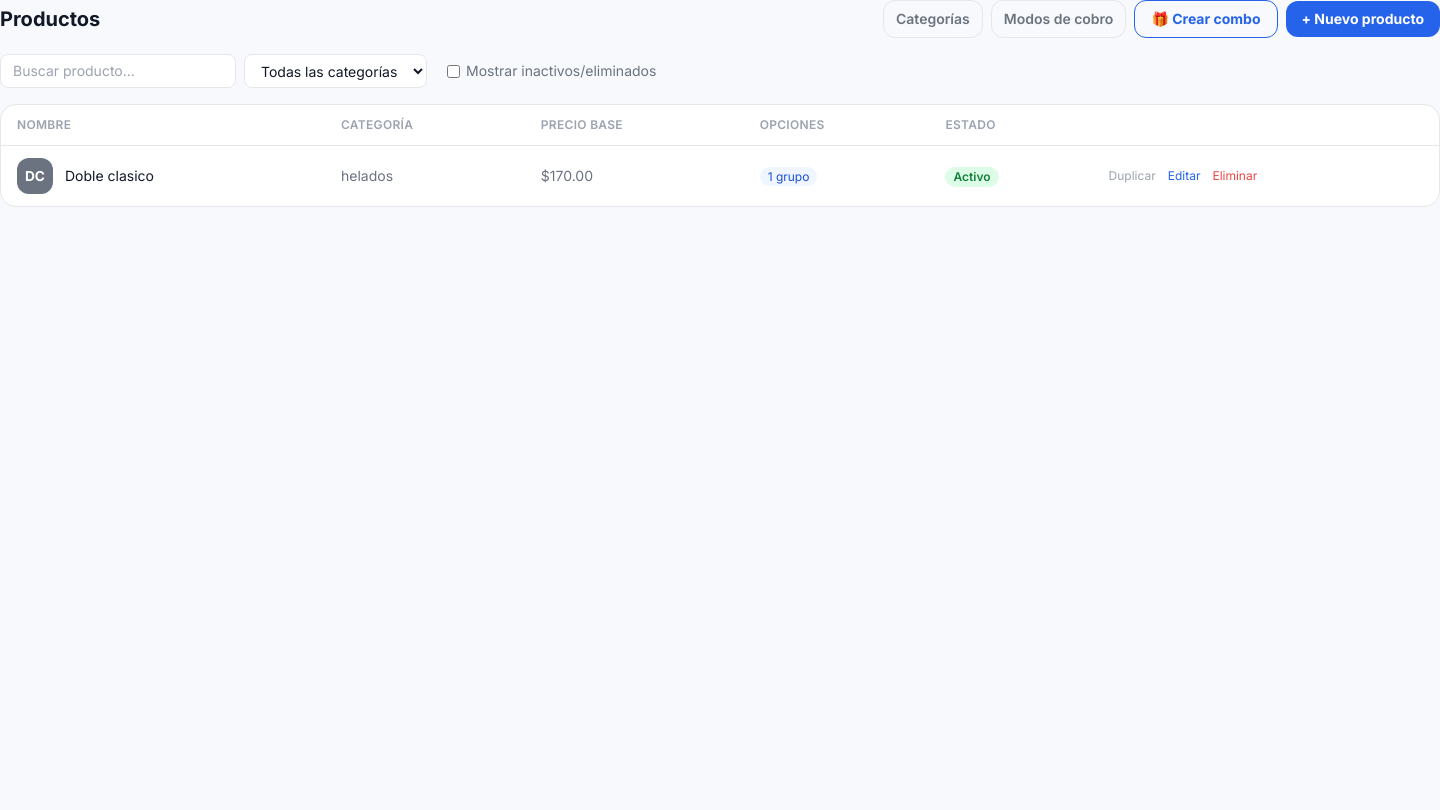
it: ProductsPage — confirmacion de lo guardado › avisa "Sin guardar" en cuanto cambia la config del extra
Expected: the text "Doble clasico" is shown, [65,166,154,186]
Click the button "Editar" at (1184, 176), box [1168,168,1200,184]
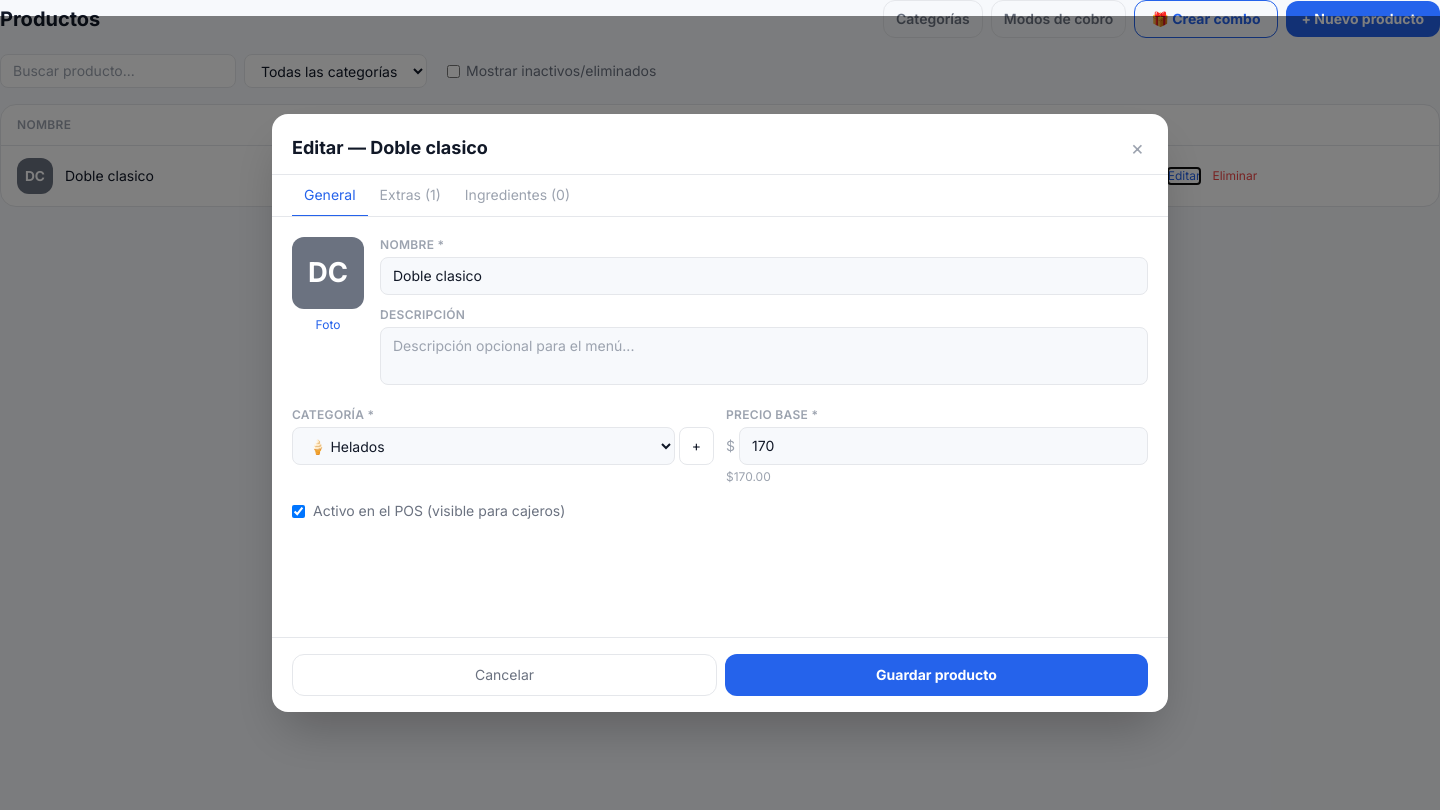
Click the button "Extras (1)" at (410, 196), box [368,175,453,217]
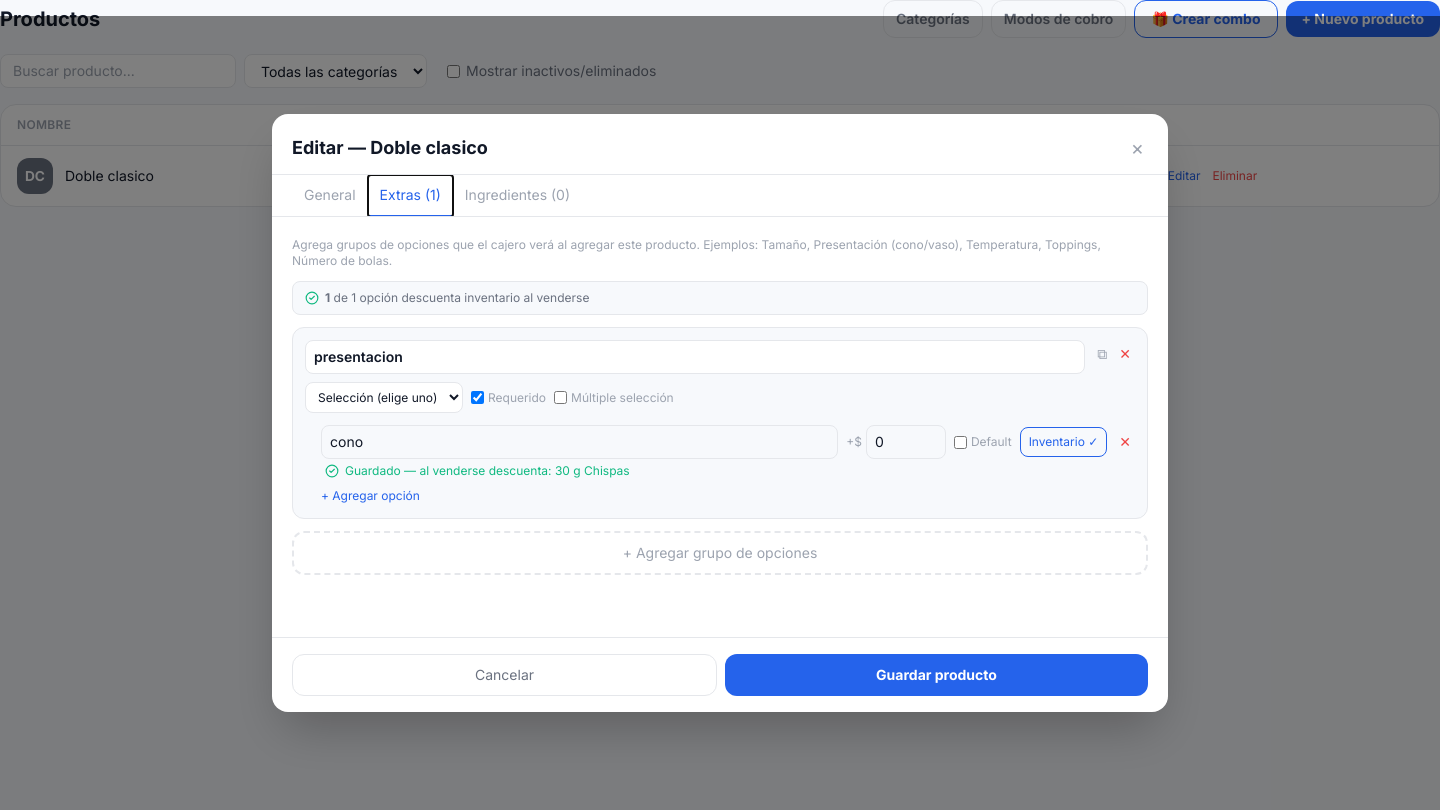
Click the button "Inventario ✓" at (1063, 442), box [1020,427,1107,457]
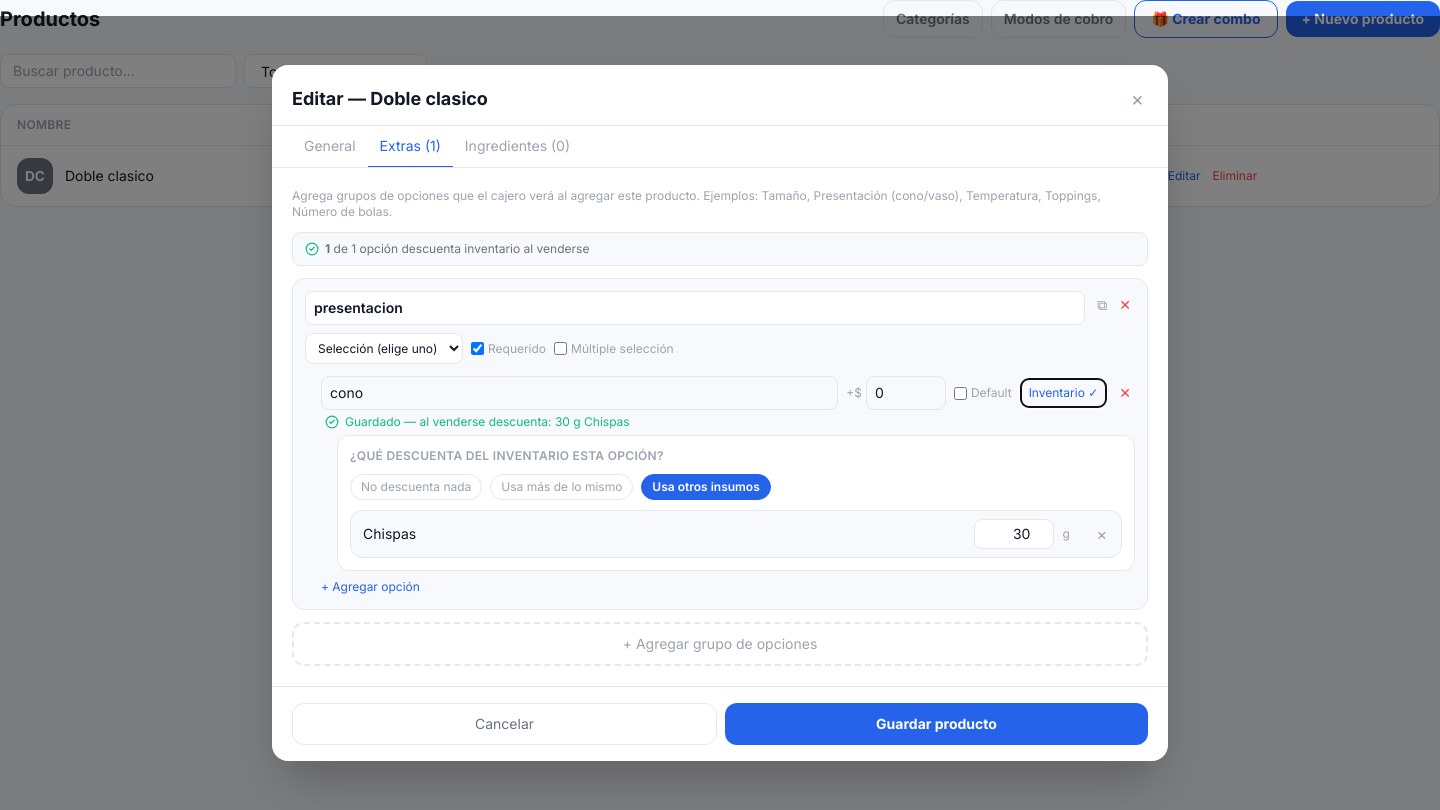
Clear the 2nd number field showing "30" at (1014, 534), box [974,519,1054,549]
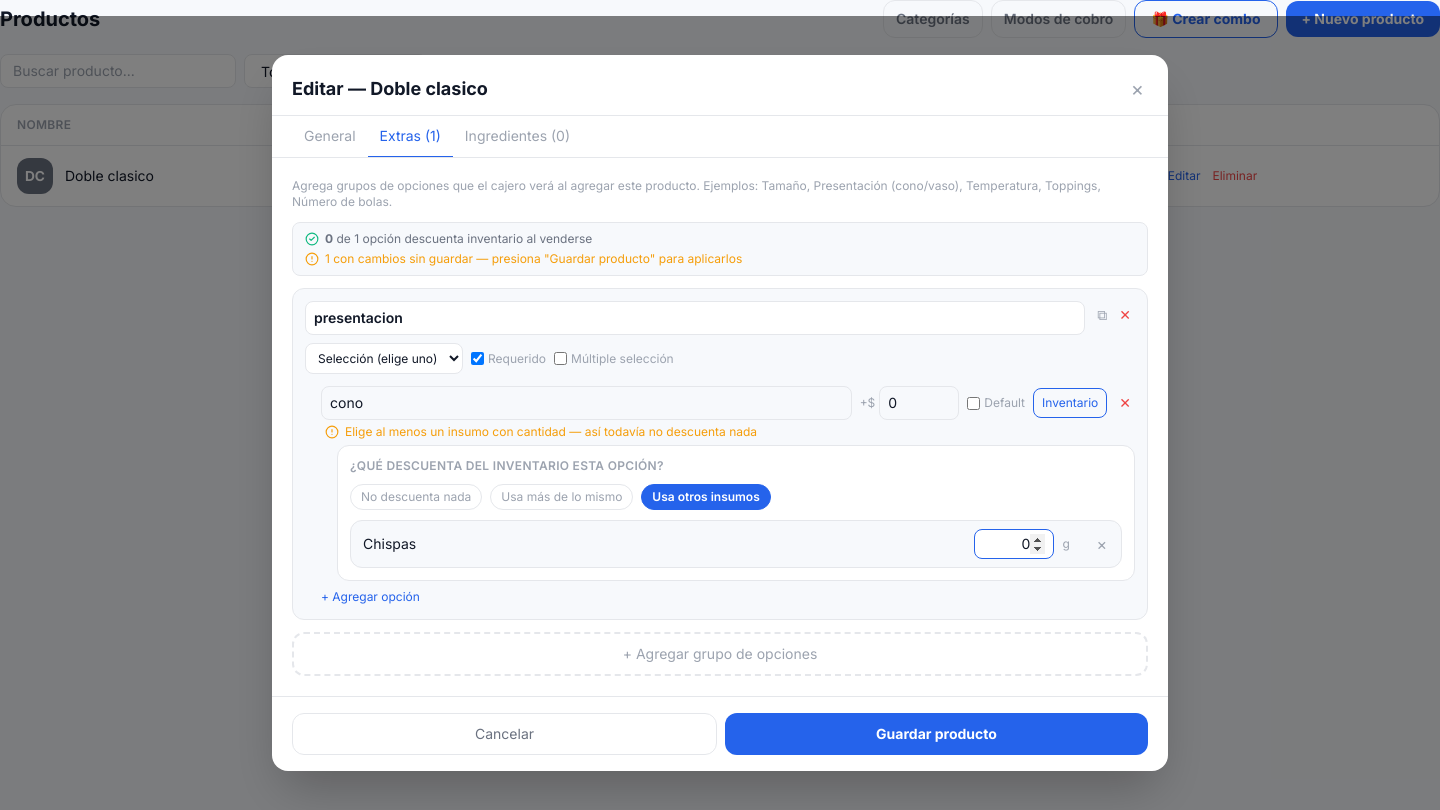
Type "45" into the number field showing "30" in the row of "Chispas" at (1014, 544), box [974,529,1054,559]
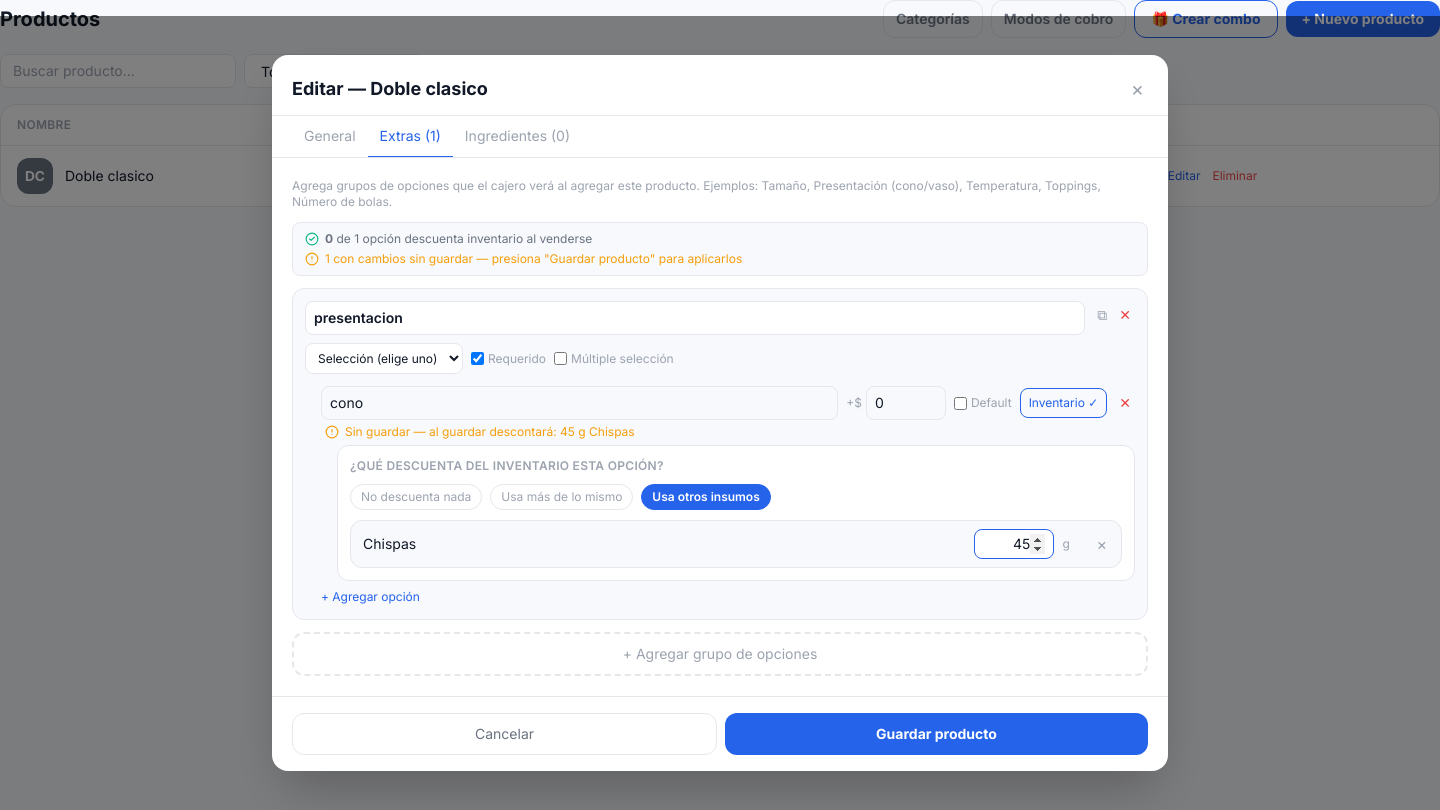
Now the text "Sin guardar — al guardar descontará: 45 g Chispas" is shown, box [345,424,635,441]
